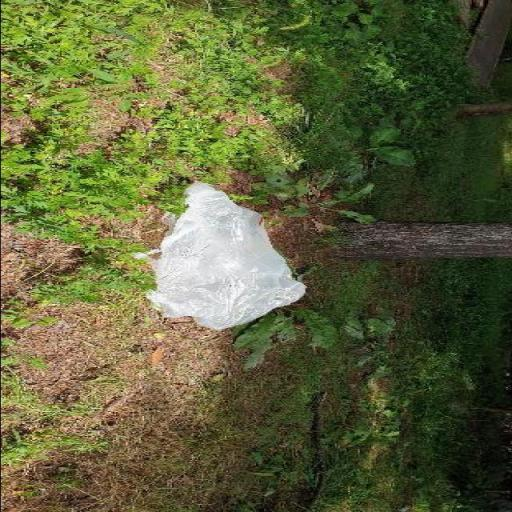plastic-bag: (138, 179, 306, 331)
